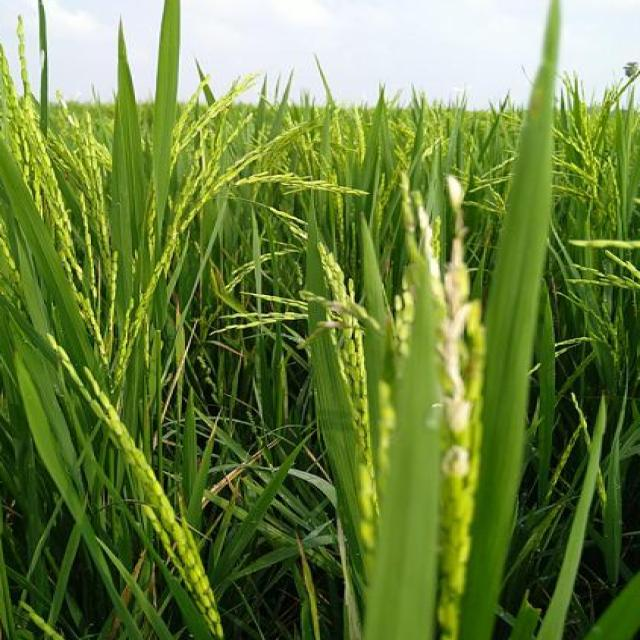Panicle Blight: (440, 176, 472, 435), (411, 193, 438, 279), (440, 445, 469, 479), (317, 301, 346, 328)
